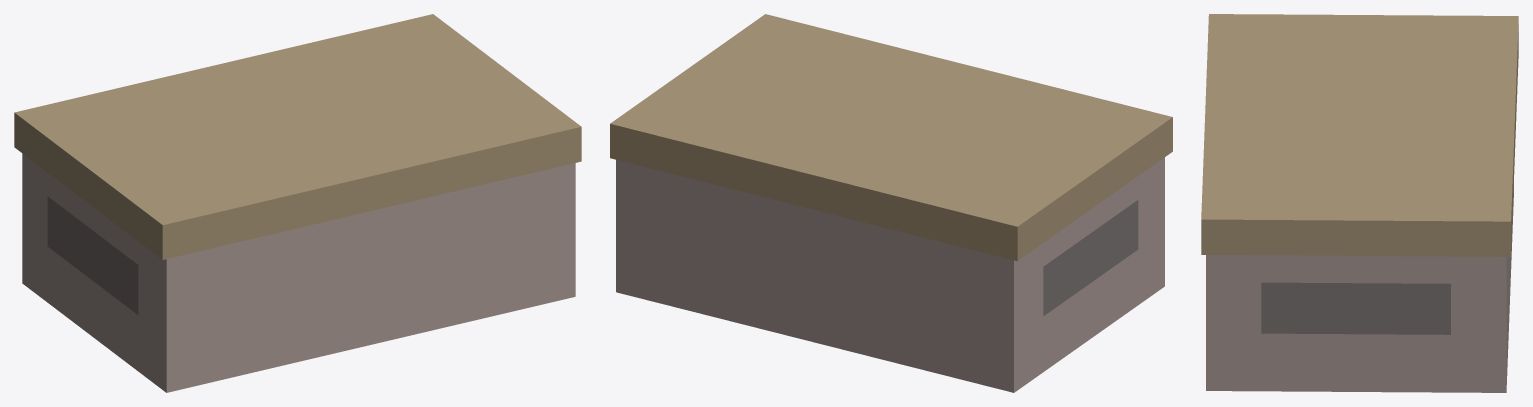
3 views of the same model, side by side, from view 1: azimuth 30°, elevation 25°; view 2: azimuth 150°, elevation 25°; view 3: azimuth 270°, elevation 25° (orthographic). The views are drawn at different scales.
Visible parts, largest first — view 1: SM_Box_02; view 2: SM_Box_02; view 3: SM_Box_02.
Part boxes in pixels (box(x1,y1,x2,y2)): SM_Box_02: box(14, 14, 581, 392); SM_Box_02: box(610, 14, 1172, 392); SM_Box_02: box(1201, 14, 1518, 392).
Size of the model in its own units: 56.43 by 21.97 by 36.47.
1 material, 1 textured.
